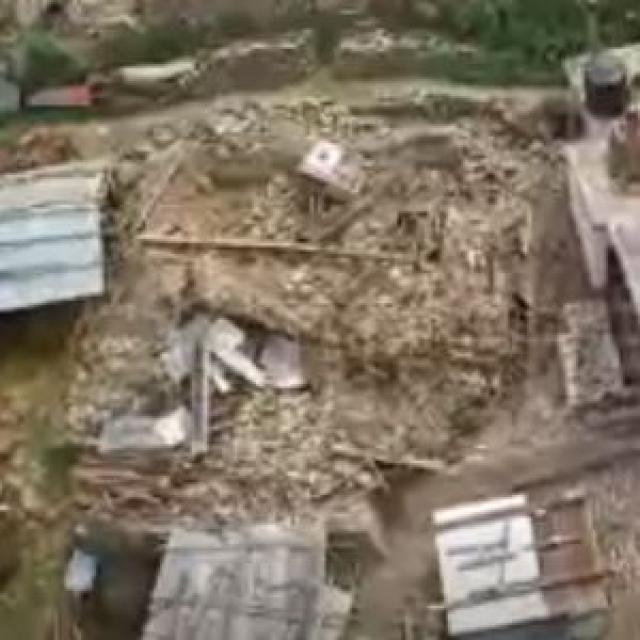collapsed_building: (98, 126, 580, 471)
